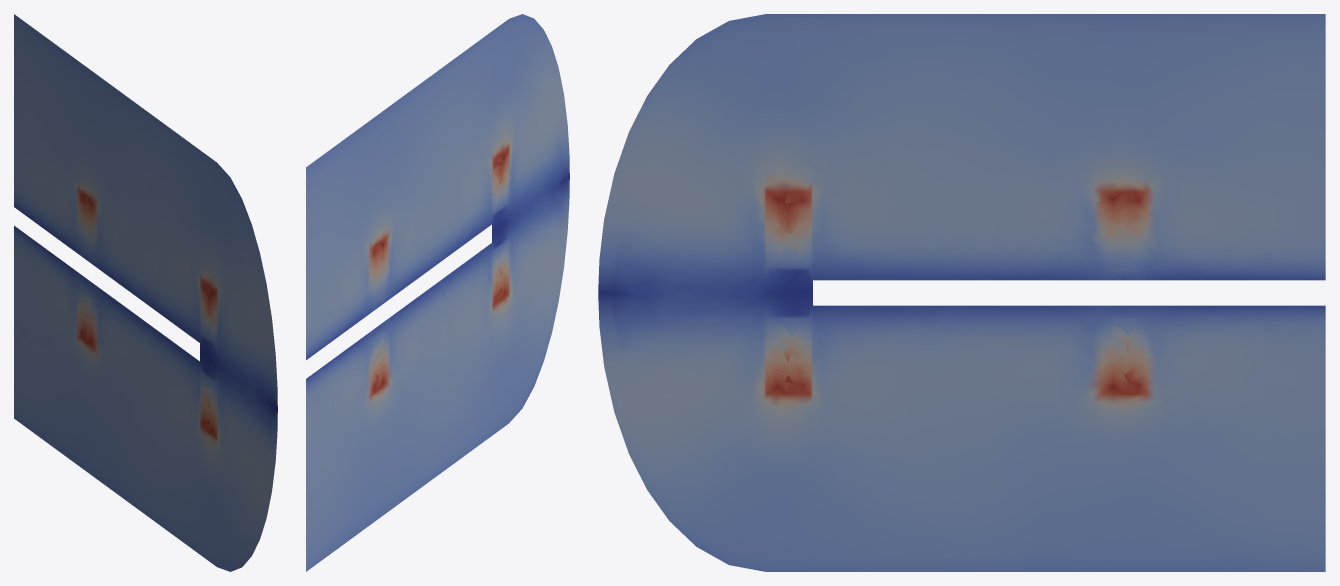
3 renders of one model, left to right at view 1: azimuth 30°, elevation 25°; view 2: azimuth 150°, elevation 25°; view 3: azimuth 270°, elevation 25°, orthographic. The views are drawn at different scales.
Parts seen in each view (by area): view 1: Shape_IndexedFaceSet.001; view 2: Shape_IndexedFaceSet.001; view 3: Shape_IndexedFaceSet.001.
Part boxes in pixels (x1=…): Shape_IndexedFaceSet.001: x1=14, y1=14, x2=277, y2=571; Shape_IndexedFaceSet.001: x1=306, y1=14, x2=569, y2=571; Shape_IndexedFaceSet.001: x1=598, y1=14, x2=1325, y2=571.
Size of the model in its own units: 1.96e-05 by 110 by 130.
